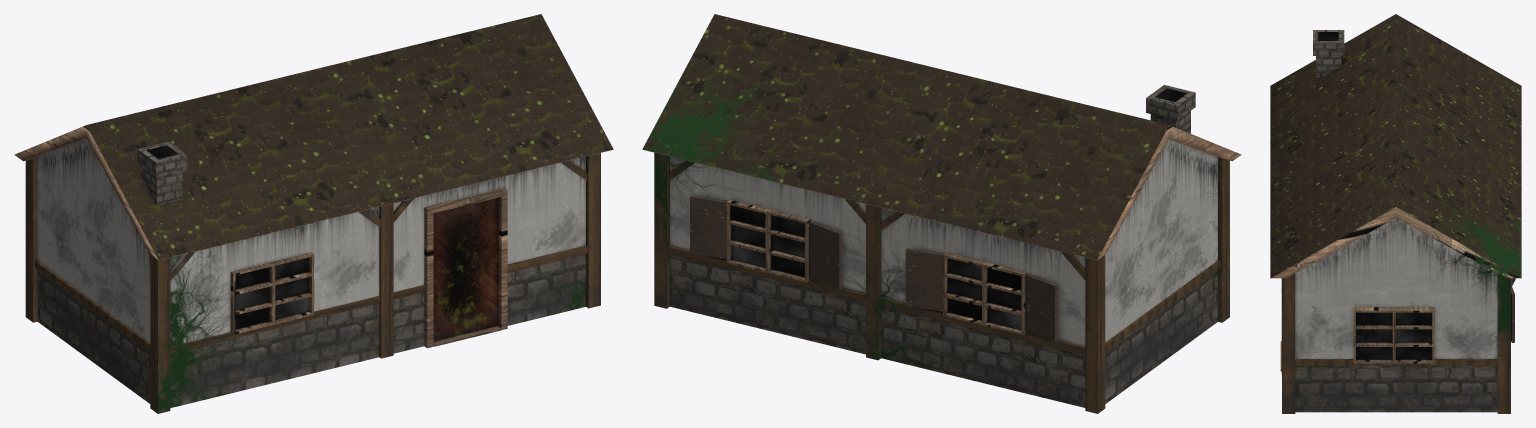
Rendered from casa.obj.
3 renders of one model, left to right at view 1: azimuth 30°, elevation 25°; view 2: azimuth 150°, elevation 25°; view 3: azimuth 270°, elevation 25°, orthographic. The views are drawn at different scales.
Visible parts, largest first — view 1: polySurface29_lambert1_001; view 2: polySurface29_lambert1_001; view 3: polySurface29_lambert1_001.
Boxes of the visible parts, bbox=[...] form: polySurface29_lambert1_001: bbox=[14, 14, 613, 413]; polySurface29_lambert1_001: bbox=[642, 14, 1241, 413]; polySurface29_lambert1_001: bbox=[1270, 14, 1521, 413].
Bounding box in the file's own units: 132 × 67.15 × 72.77.
Materials: 1 (1 with a texture image).
